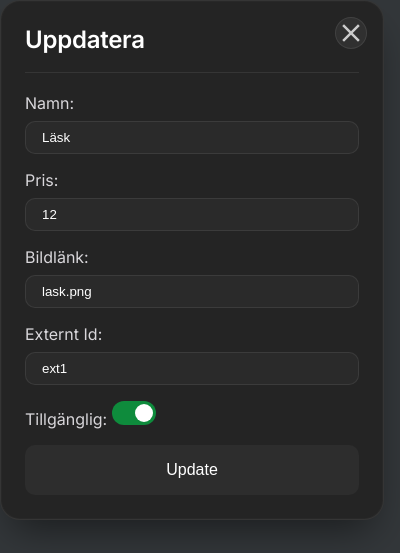
it: UpdateItemPopup › accept button state › is enabled after the price changes
Step 1. Replace the text in the number field labelled "Pris:" with "15" → (192, 214), box x1=25 y1=198 x2=359 y2=231
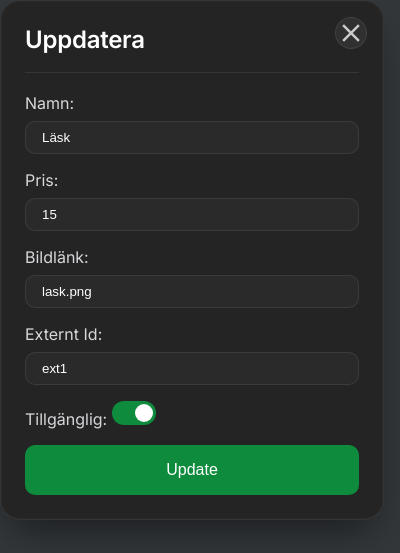
Expected: the button "Update" is enabled, x1=25 y1=445 x2=359 y2=495
